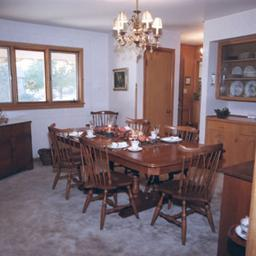Puerta: (143, 51, 174, 133)
Ventana: (2, 48, 79, 108)
